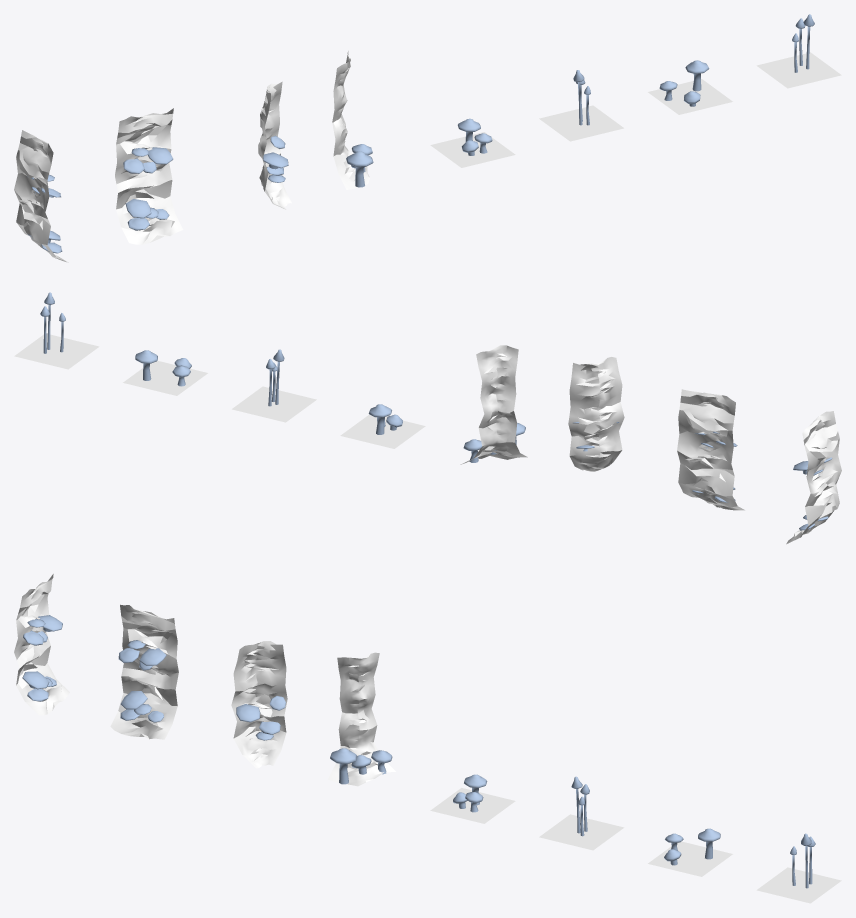
File: cave_shrooms.fbx
The picture shows the model from 3 angles, top to bottom: view 1: azimuth 30°, elevation 25°; view 2: azimuth 150°, elevation 25°; view 3: azimuth 330°, elevation 25°; orthographic projection.
Visible parts, largest first — view 1: cave_straight_shr2, cave_straight_shrooms, floor_shroom4, floor_shroom3, floor_shroom2, floor_shroom1, cave_concave_shrooms, cave_convex_shrooms, shrooms2, shrooms4, shrooms3; view 2: cave_straight_shr2, cave_concave_shrooms, cave_convex_shrooms, cave_straight_shrooms, floor_shroom4, floor_shroom2, floor_shroom3, floor_shroom1; view 3: cave_straight_shr2, cave_concave_shrooms, cave_convex_shrooms, cave_straight_shrooms, floor_shroom3, floor_shroom2, floor_shroom4, floor_shroom1, shrooms2, shrooms1, shrooms4, shrooms3.
Boxes of the visible parts, left/top/right/bottom form: cave_straight_shr2: left=115, top=108, right=183, bottom=244; cave_straight_shrooms: left=14, top=130, right=68, bottom=262; floor_shroom4: left=756, top=14, right=841, bottom=88; floor_shroom3: left=648, top=60, right=732, bottom=114; floor_shroom2: left=539, top=70, right=623, bottom=141; floor_shroom1: left=430, top=118, right=515, bottom=167; cave_concave_shrooms: left=258, top=81, right=291, bottom=209; cave_convex_shrooms: left=332, top=51, right=369, bottom=189; shrooms2: left=123, top=147, right=173, bottom=230; shrooms4: left=346, top=144, right=373, bottom=187; shrooms3: left=263, top=135, right=288, bottom=182; cave_straight_shr2: left=677, top=389, right=744, bottom=510; cave_concave_shrooms: left=568, top=357, right=624, bottom=471; cave_convex_shrooms: left=460, top=345, right=527, bottom=464; cave_straight_shrooms: left=786, top=411, right=841, bottom=544; floor_shroom4: left=14, top=292, right=99, bottom=369; floor_shroom2: left=232, top=349, right=316, bottom=422; floor_shroom3: left=123, top=350, right=207, bottom=395; floor_shroom1: left=340, top=404, right=425, bottom=448; cave_straight_shr2: left=110, top=604, right=178, bottom=739; cave_concave_shrooms: left=231, top=641, right=287, bottom=768; cave_convex_shrooms: left=328, top=652, right=395, bottom=786; cave_straight_shrooms: left=14, top=574, right=69, bottom=715; floor_shroom3: left=648, top=828, right=732, bottom=876; floor_shroom2: left=539, top=776, right=624, bottom=850; floor_shroom4: left=756, top=833, right=841, bottom=903; floor_shroom1: left=430, top=774, right=515, bottom=823; shrooms2: left=118, top=640, right=166, bottom=722; shrooms1: left=22, top=615, right=62, bottom=701; shrooms4: left=330, top=748, right=392, bottom=784; shrooms3: left=236, top=696, right=285, bottom=740.
Size of the model in its own units: 2948 by 428 by 232.
